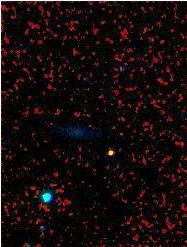star: (92, 137, 122, 167)
